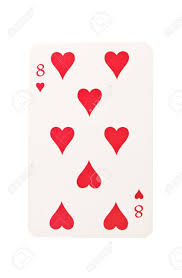eight of hearts: (28, 44, 154, 238)
